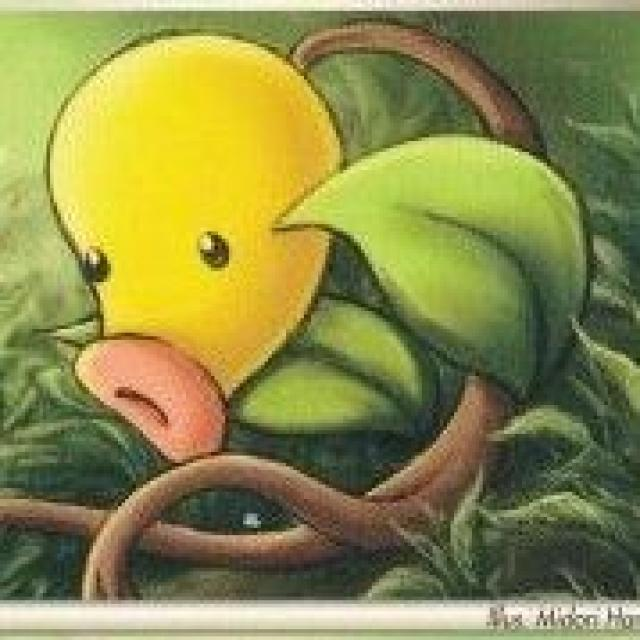Bellsprout: (42, 35, 429, 541)
